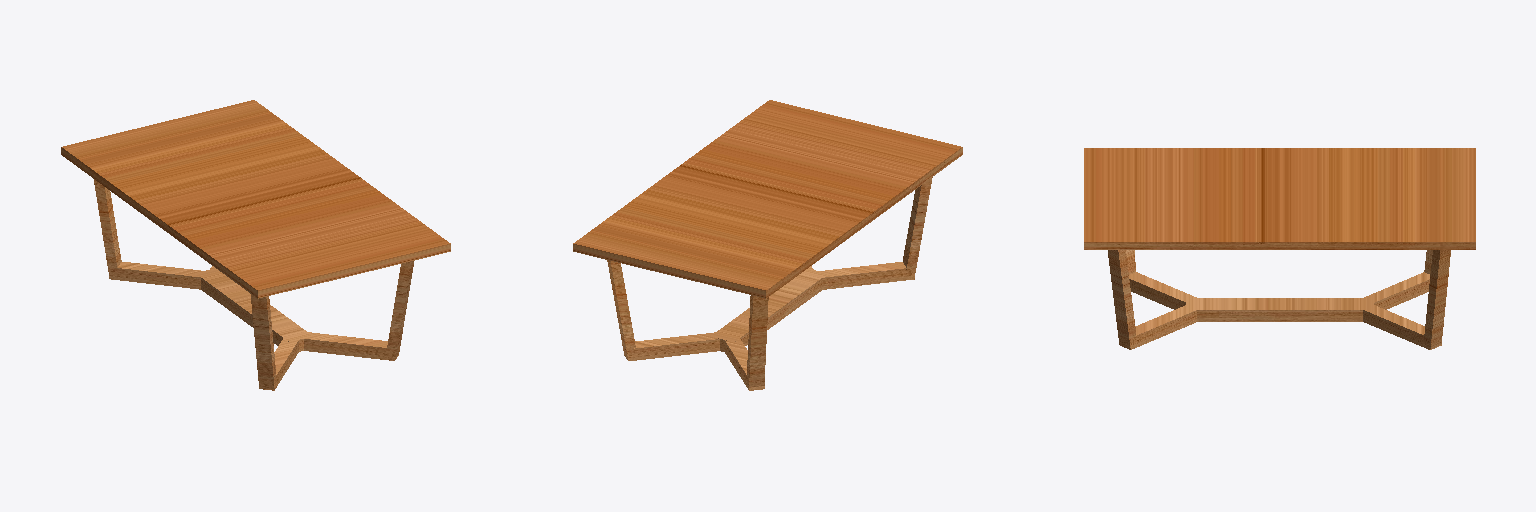
3 views of the same model, side by side, from view 1: azimuth 30°, elevation 25°; view 2: azimuth 150°, elevation 25°; view 3: azimuth 270°, elevation 25° (orthographic).
Visible parts, largest first — view 1: mesa_pCube13; view 2: mesa_pCube13; view 3: mesa_pCube13.
Part boxes in pixels (bbox=[...]): mesa_pCube13: bbox=[61, 100, 450, 390]; mesa_pCube13: bbox=[573, 100, 962, 390]; mesa_pCube13: bbox=[1084, 148, 1475, 349].
Size of the model in its own units: 1.24 by 0.7472 by 2.19.
Materials: 2 (1 with a texture image).